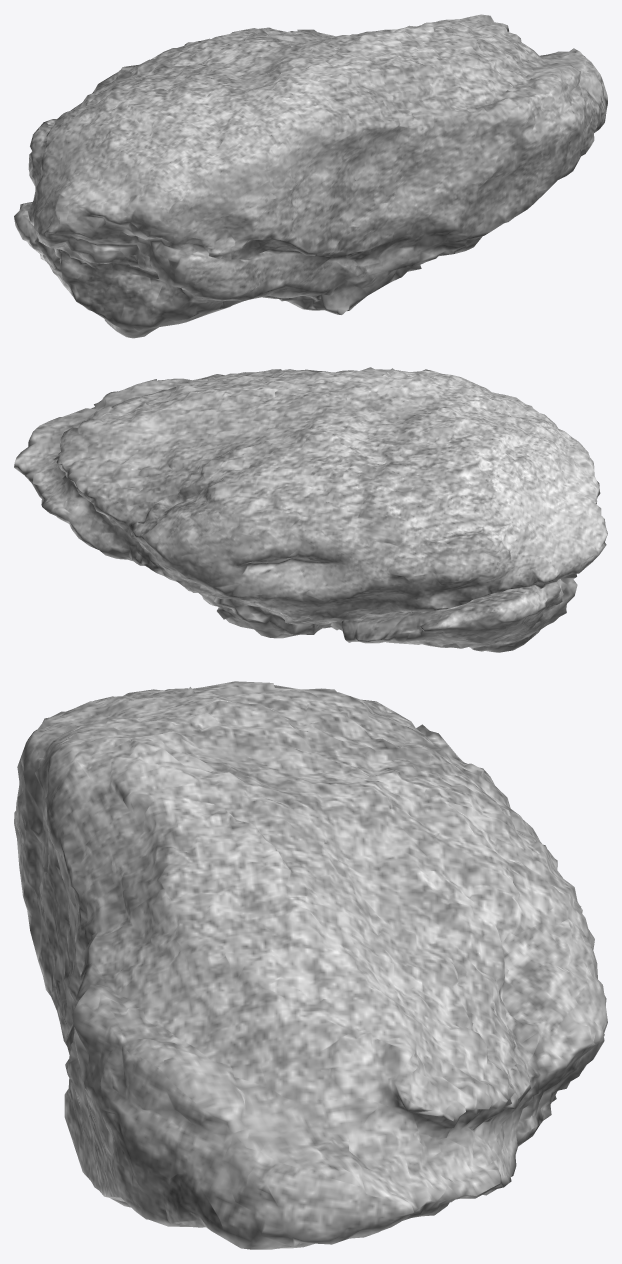
The model's file is boulder-bench-lod0.glb.
The picture shows the model from 3 angles, top to bottom: view 1: azimuth 30°, elevation 25°; view 2: azimuth 150°, elevation 25°; view 3: azimuth 270°, elevation 25°; orthographic projection. The views are drawn at different scales.
Visible parts, largest first — view 1: namaqualand_boulder_05; view 2: namaqualand_boulder_05; view 3: namaqualand_boulder_05.
Part boxes in pixels (x1,y1,x2,y2): namaqualand_boulder_05: [14, 14, 607, 338]; namaqualand_boulder_05: [14, 367, 607, 652]; namaqualand_boulder_05: [14, 681, 607, 1249].
Size of the model in its own units: 1.36 by 0.5362 by 0.7481.
Materials: 1 (1 with a texture image).
